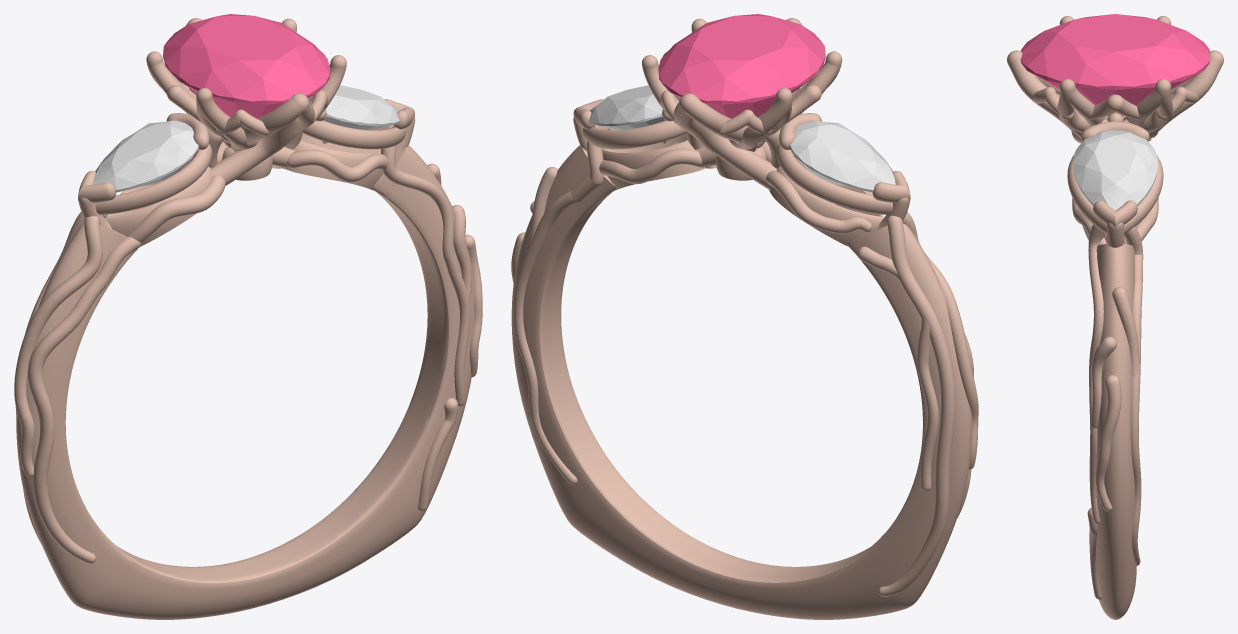
Rendered from IanRGv2engNEW.glb.
3 views of the same model, side by side, from view 1: azimuth 30°, elevation 25°; view 2: azimuth 150°, elevation 25°; view 3: azimuth 270°, elevation 25° (orthographic). The views are drawn at different scales.
Visible parts, largest first — view 1: V2 ian RG for 3d model, V2 ian pink sapph for 3d model, V2 ian dia for 3d model.001, V2 ian dia for 3d model; view 2: V2 ian RG for 3d model, V2 ian pink sapph for 3d model, V2 ian dia for 3d model.001, V2 ian dia for 3d model; view 3: V2 ian RG for 3d model, V2 ian pink sapph for 3d model, V2 ian dia for 3d model.
Boxes of the visible parts, left/top/right/bottom form: V2 ian RG for 3d model: left=14, top=18, right=482, bottom=619; V2 ian pink sapph for 3d model: left=163, top=14, right=330, bottom=118; V2 ian dia for 3d model.001: left=93, top=120, right=198, bottom=192; V2 ian dia for 3d model: left=321, top=85, right=399, bottom=143; V2 ian RG for 3d model: left=511, top=18, right=978, bottom=619; V2 ian pink sapph for 3d model: left=658, top=14, right=825, bottom=118; V2 ian dia for 3d model.001: left=789, top=120, right=895, bottom=192; V2 ian dia for 3d model: left=588, top=85, right=667, bottom=143; V2 ian RG for 3d model: left=1007, top=16, right=1223, bottom=619; V2 ian pink sapph for 3d model: left=1020, top=14, right=1210, bottom=115; V2 ian dia for 3d model: left=1073, top=130, right=1157, bottom=210.
Bounding box in the file's own units: 24.15 × 28.35 × 10.17.
